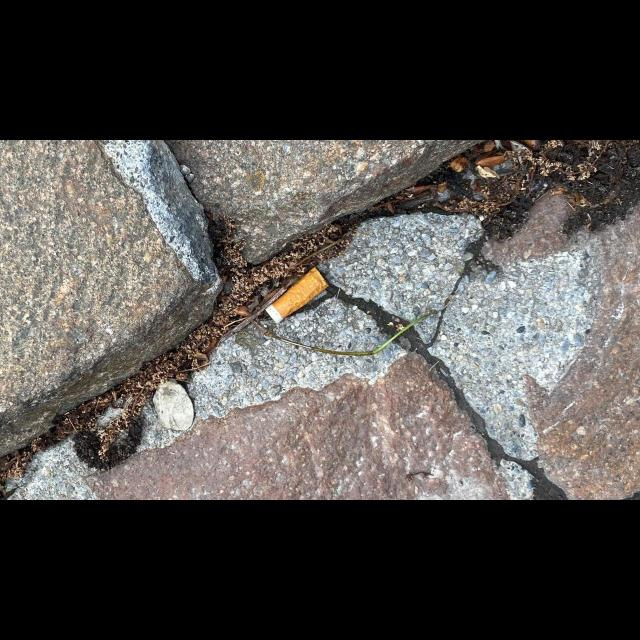cigarette: (265, 266, 329, 324)
